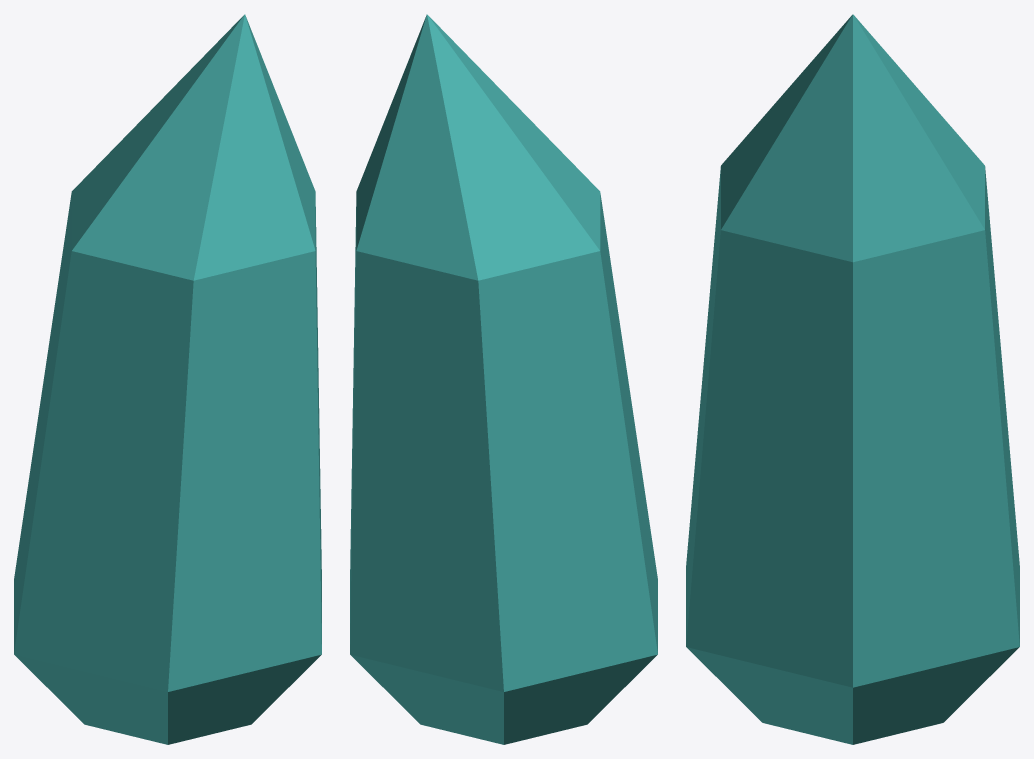
Rendered from magic_crystal.glb.
3 views of the same model, side by side, from view 1: azimuth 30°, elevation 25°; view 2: azimuth 150°, elevation 25°; view 3: azimuth 270°, elevation 25° (orthographic). The views are drawn at different scales.
Parts seen in each view (by area): view 1: SM_Magic_Crystal; view 2: SM_Magic_Crystal; view 3: SM_Magic_Crystal.
Part boxes in pixels (x1,y1,x2,y2): SM_Magic_Crystal: (14,14,321,744); SM_Magic_Crystal: (350,14,657,744); SM_Magic_Crystal: (686,14,1019,744).
Size of the model in its own units: 0.048 by 0.1 by 0.0416.
1 material, 1 textured.
